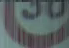Speed limit: (7, 0, 65, 36)
